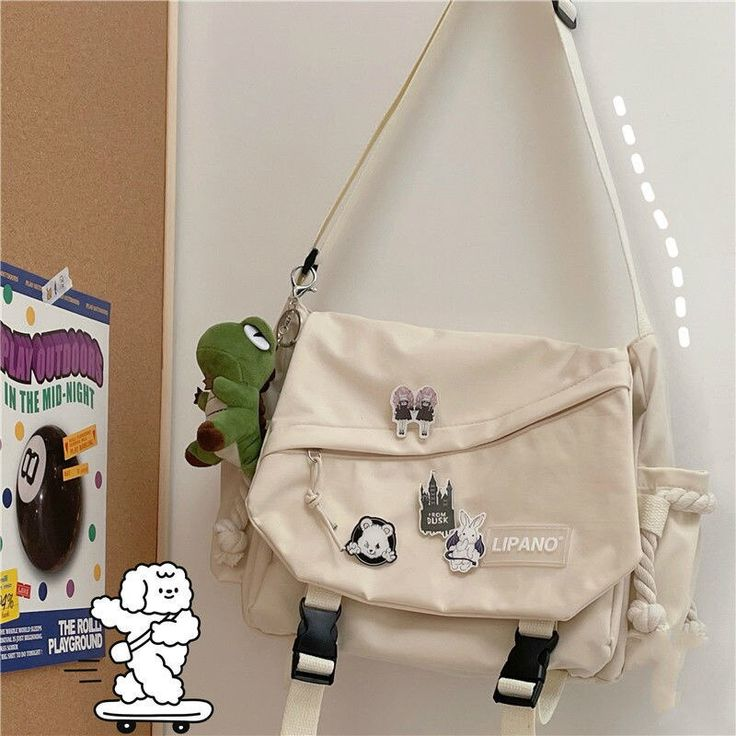nylon: (241, 307, 709, 736)
